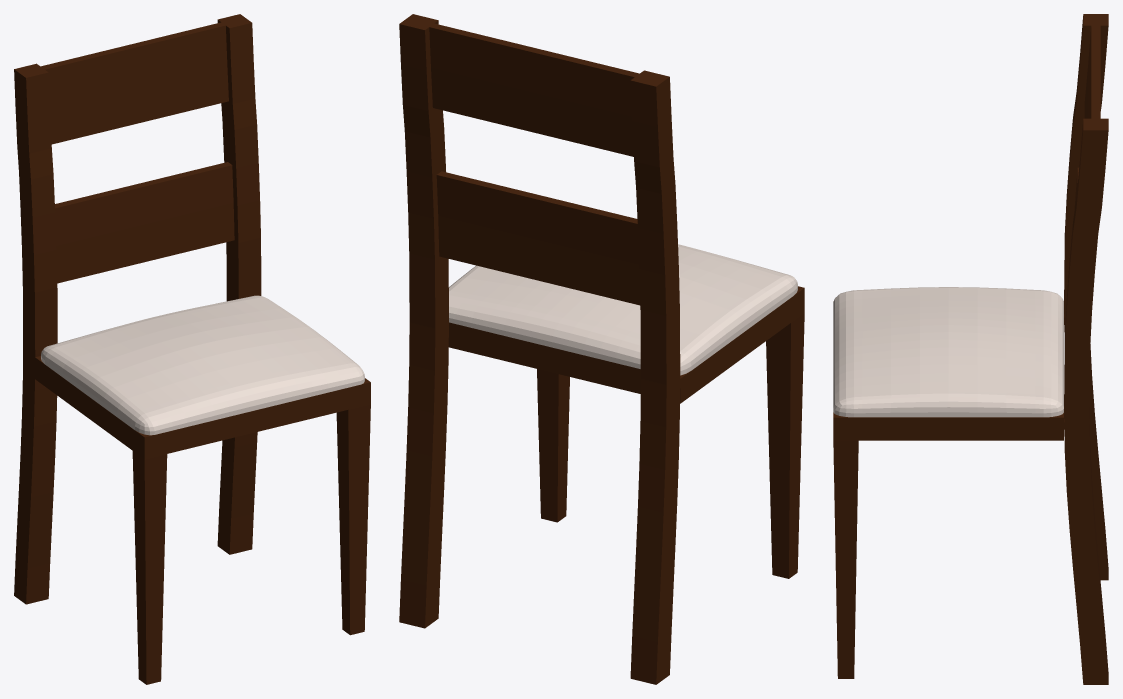
The model's file is twoHorizontalbackrestChair.fbx.
The picture shows the model from 3 angles, left to right: view 1: azimuth 30°, elevation 25°; view 2: azimuth 150°, elevation 25°; view 3: azimuth 270°, elevation 25°; orthographic projection. The views are drawn at different scales.
Visible parts, largest first — view 1: chair.004; view 2: chair.004; view 3: chair.004.
Part boxes in pixels (x1=…): chair.004: x1=14, y1=14, x2=370, y2=684; chair.004: x1=399, y1=14, x2=804, y2=684; chair.004: x1=833, y1=14, x2=1108, y2=684.
Bounding box in the file's own units: 50 × 111 × 50.
